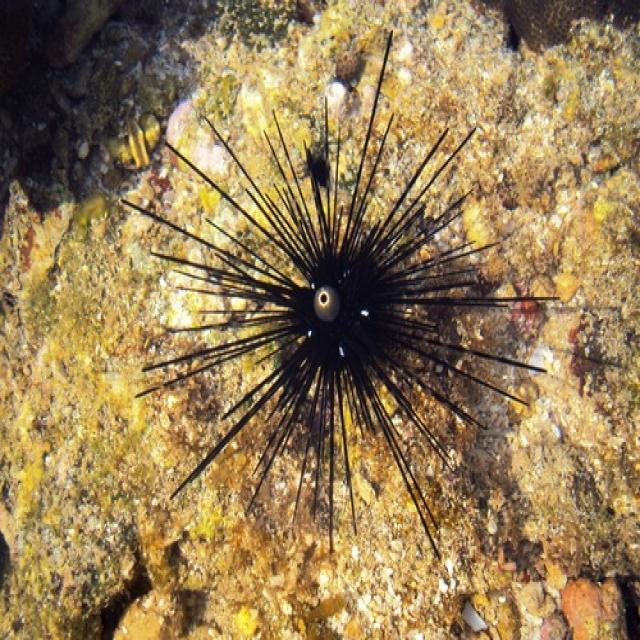Urchin: (113, 37, 558, 565)
